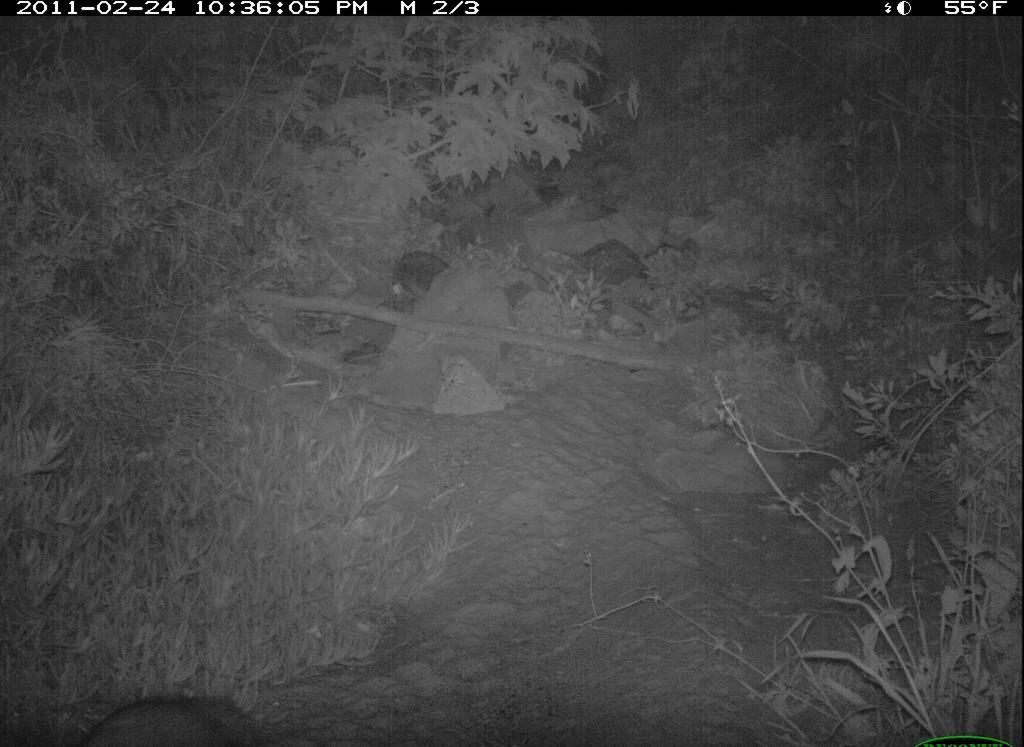raccoon: (71, 681, 303, 747)
